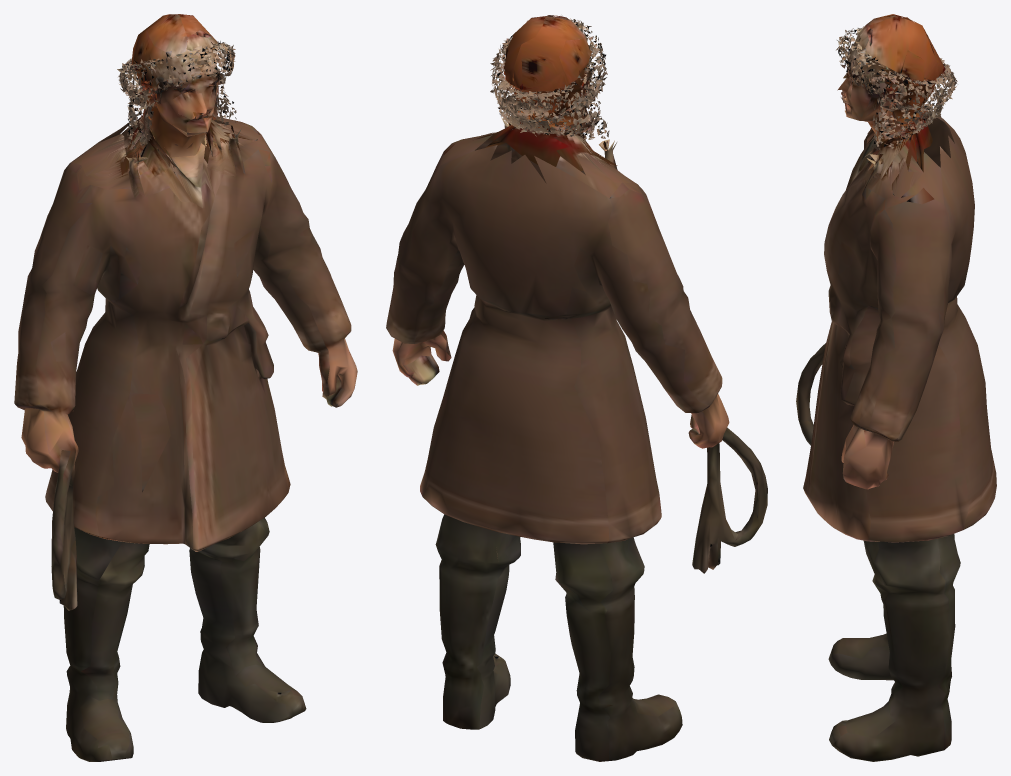
The model's file is herder-dauren.gen.glb.
The picture shows the model from 3 angles, left to right: view 1: azimuth 30°, elevation 25°; view 2: azimuth 150°, elevation 25°; view 3: azimuth 270°, elevation 25°; orthographic projection.
Parts seen in each view (by area): view 1: herder-dauren.raw; view 2: herder-dauren.raw; view 3: herder-dauren.raw.
Part boxes in pixels (left/top/right/bottom): herder-dauren.raw: left=14, top=14, right=357, bottom=761; herder-dauren.raw: left=386, top=15, right=767, bottom=761; herder-dauren.raw: left=796, top=14, right=996, bottom=761.
Bounding box in the file's own units: 0.9164 × 1.85 × 0.4825.
1 material, 1 textured.
